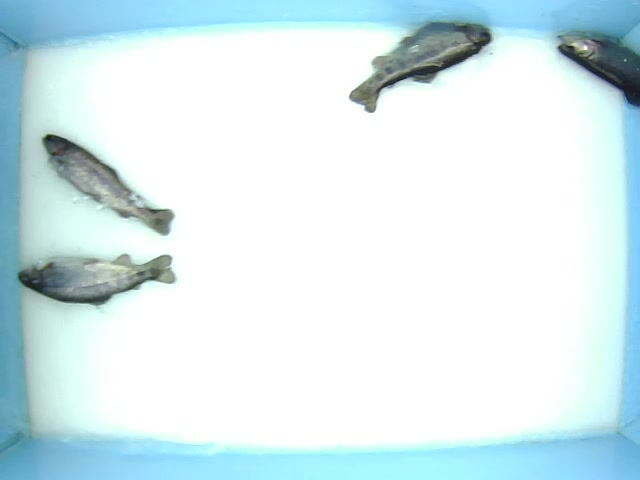fish: (336, 19, 502, 127), (39, 128, 195, 237), (4, 257, 201, 306), (552, 30, 640, 103)
